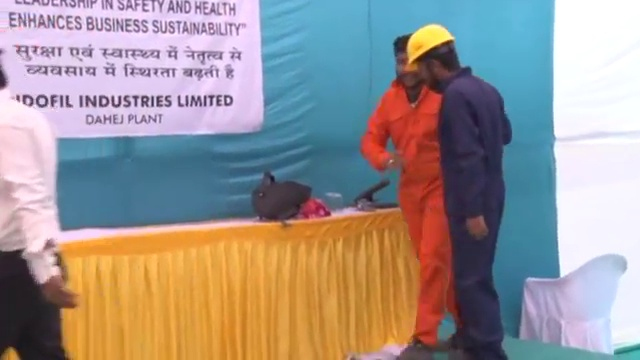helmet: (405, 22, 458, 69)
helmet_off: (391, 33, 421, 88)
helmet_on: (404, 21, 474, 84)
person: (403, 15, 518, 360), (367, 33, 458, 335), (1, 48, 61, 360)
